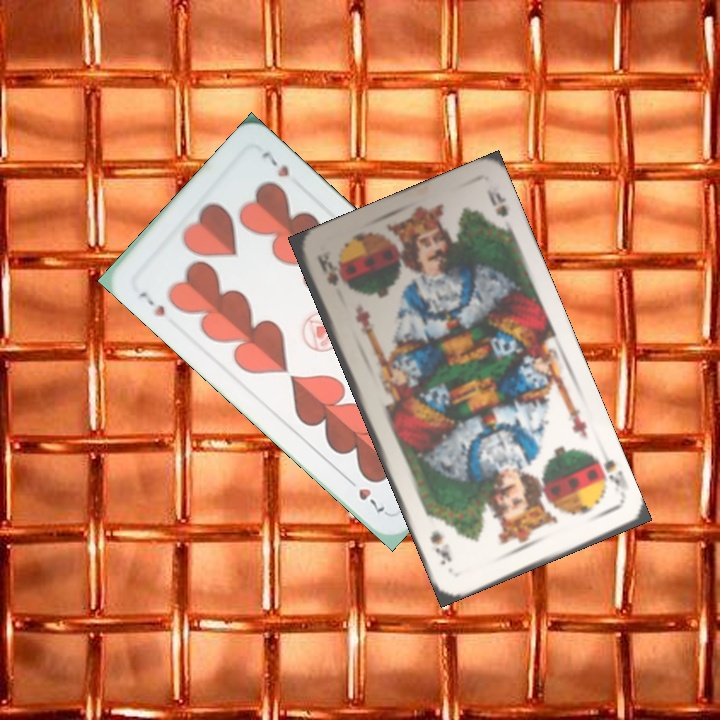H7: (135, 287, 168, 320)
SK: (589, 448, 629, 504), (313, 249, 342, 289)
